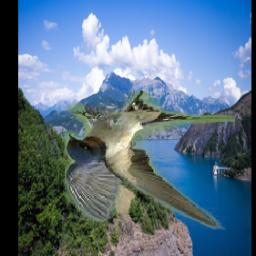Swallow: (66, 91, 236, 230)
